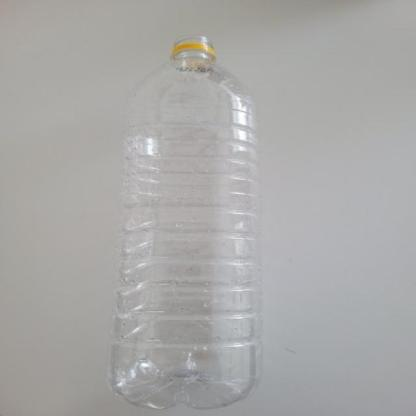Plastic Bottle: (110, 36, 262, 410)
